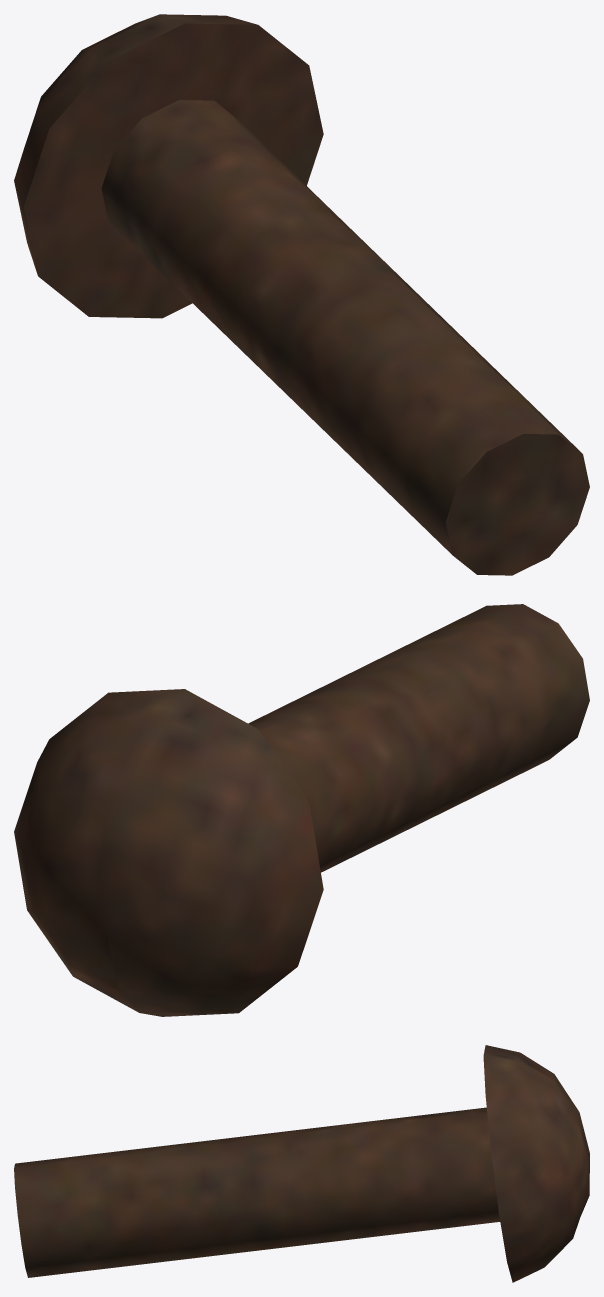
The model's file is bolt_mx_1_1.obj.
3 renders of one model, top to bottom at view 1: azimuth 30°, elevation 25°; view 2: azimuth 150°, elevation 25°; view 3: azimuth 270°, elevation 25°, orthographic. The views are drawn at different scales.
Visible parts, largest first — view 1: bolt_mx_1_1; view 2: bolt_mx_1_1; view 3: bolt_mx_1_1.
Boxes of the visible parts, box(x1,y1,x2,y2) form: bolt_mx_1_1: box(14, 14, 589, 575); bolt_mx_1_1: box(14, 604, 589, 1016); bolt_mx_1_1: box(14, 1045, 589, 1282).
Bounding box in the file's own units: 0.0749 × 0.0745 × 0.1794.
